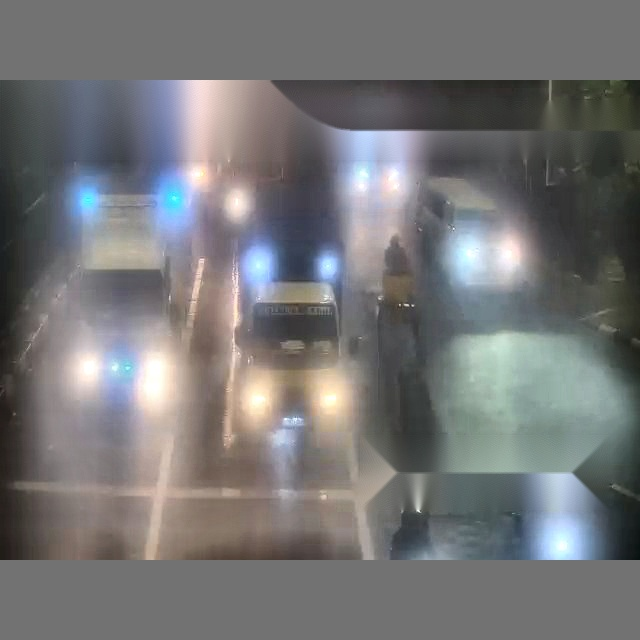Bis: (387, 326, 638, 559)
